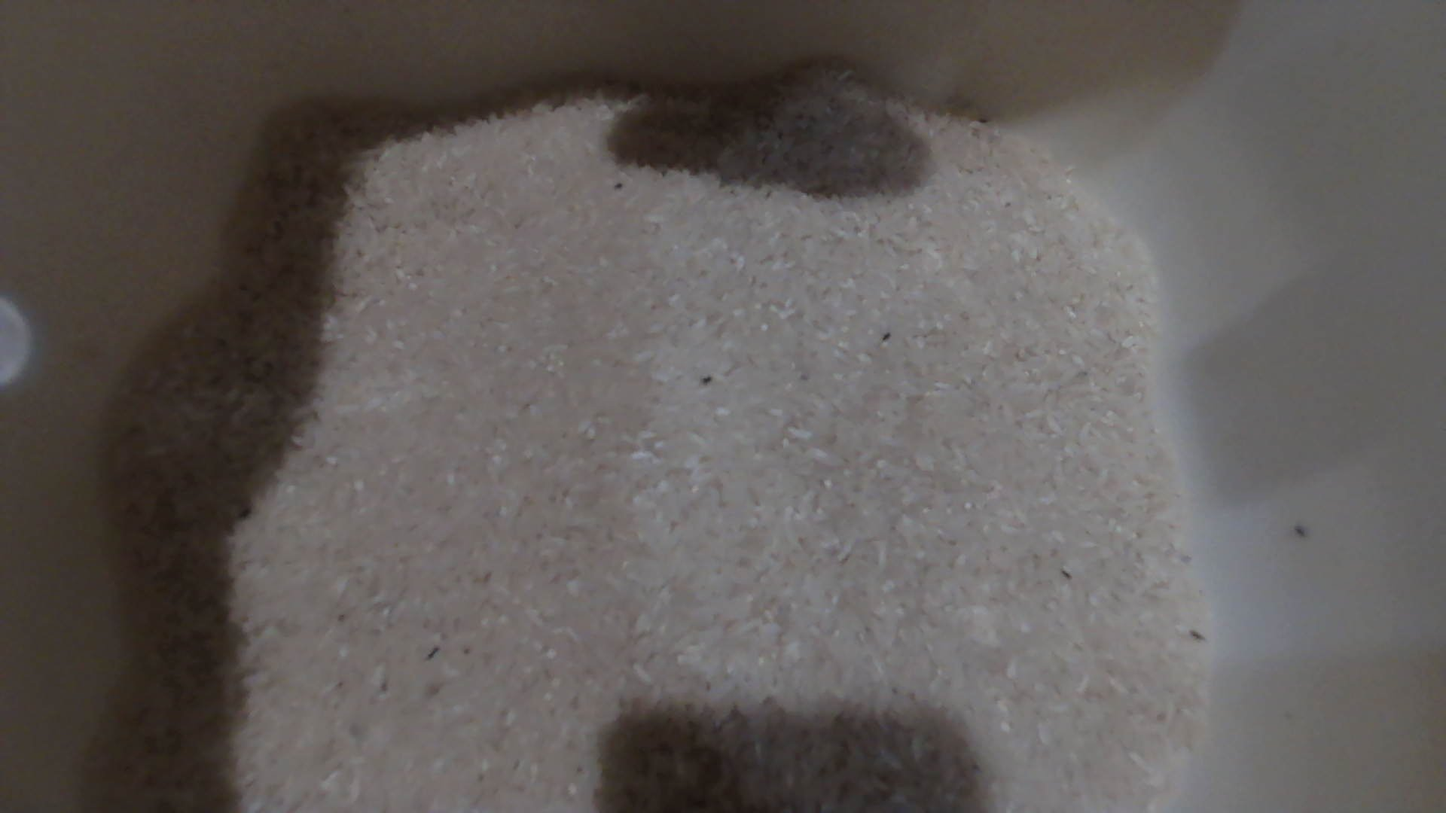Sitophilus-Oryzae: (1189, 629, 1206, 641), (1294, 525, 1307, 537), (880, 331, 891, 342), (700, 376, 713, 385), (613, 181, 624, 187)
